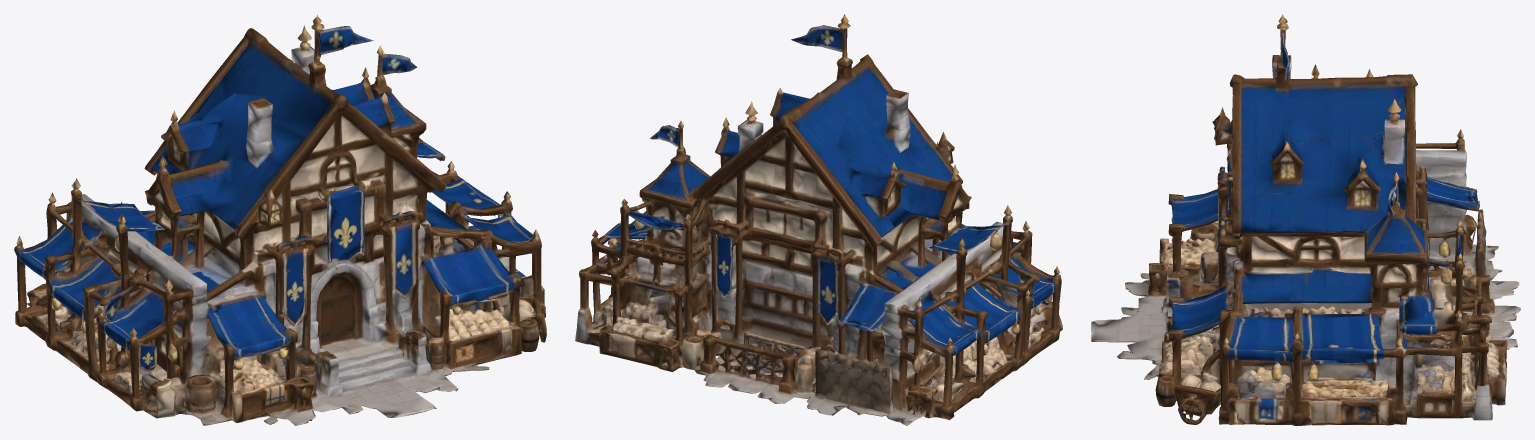
The model's file is market3.glb.
3 renders of one model, left to right at view 1: azimuth 30°, elevation 25°; view 2: azimuth 150°, elevation 25°; view 3: azimuth 270°, elevation 25°, orthographic. The views are drawn at different scales.
Size of the model in its own units: 1.89 by 1.45 by 1.73.
1 material, 1 textured.
